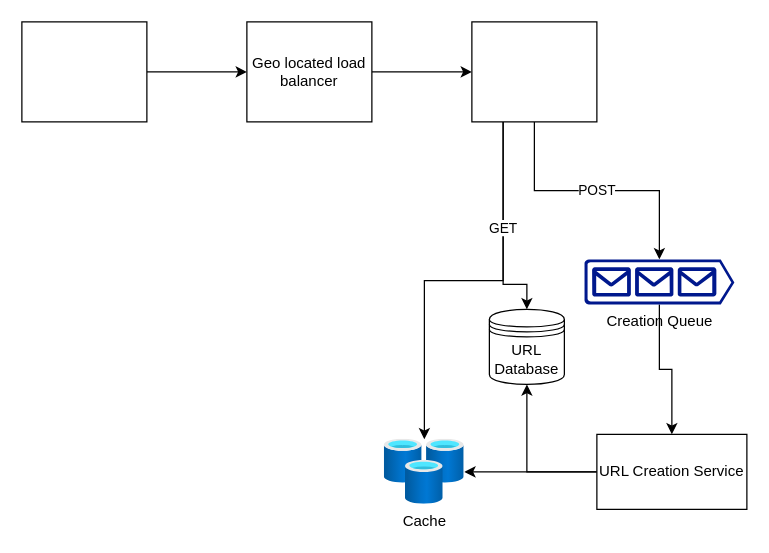
The diagram is 769 pixels wide and 553 high, and some of its shapes have lost their labels. Each missing label, with the centre of its shape:
"RESTful API service" belongs at [534,71].
"User frontend service" belongs at [84,71].
